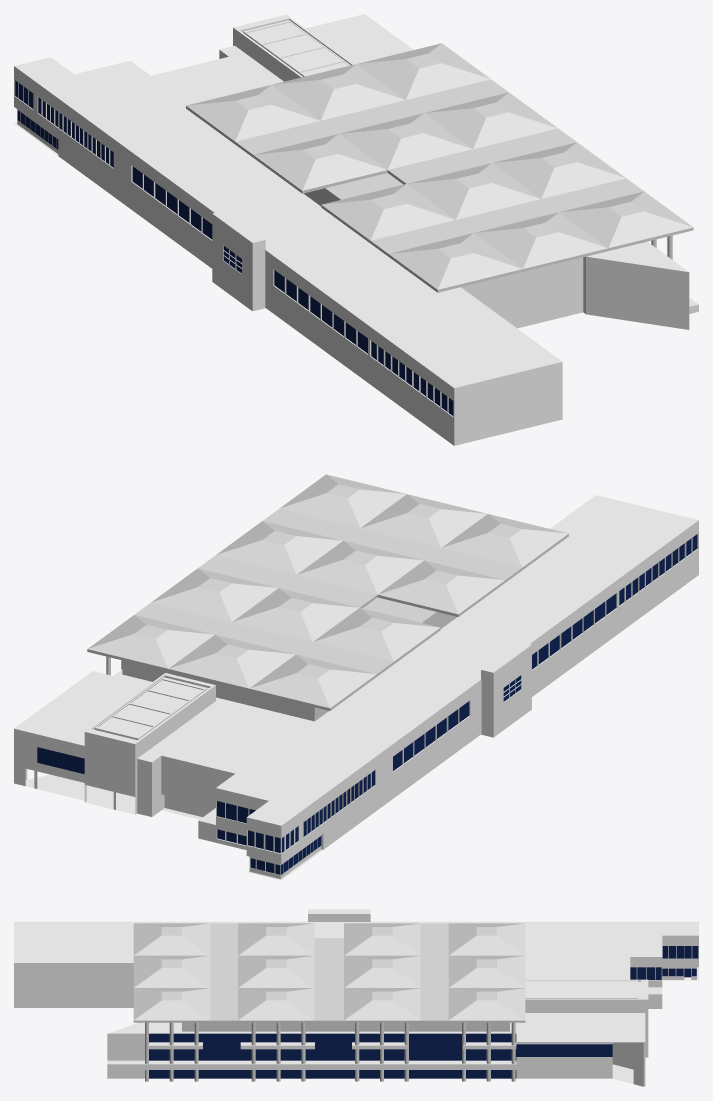
The model's file is Airport_01a.fbx.
3 renders of one model, top to bottom at view 1: azimuth 30°, elevation 25°; view 2: azimuth 150°, elevation 25°; view 3: azimuth 270°, elevation 25°, orthographic. The views are drawn at different scales.
Parts seen in each view (by area): view 1: Cube.001, Cube.004, Cube, Cube.003, Cube.002; view 2: Cube.004, Cube, Cube.001, Cube.003, Cube.002; view 3: Cube.004, Cube.001, Cube, Cube.002, Cylinder, Cube.003.
Boxes of the visible parts, <box> form: Cube.001: <box>131,131,698,445</box>; Cube.004: <box>186,43,693,292</box>; Cube: <box>14,14,413,209</box>; Cube.003: <box>212,210,265,311</box>; Cube.002: <box>303,173,402,206</box>; Cube.004: <box>87,474,568,710</box>; Cube: <box>14,671,392,880</box>; Cube.001: <box>113,495,698,798</box>; Cube.003: <box>481,642,531,737</box>; Cube.002: <box>122,597,456,721</box>; Cube.004: <box>133,923,525,1022</box>; Cube.001: <box>14,921,516,1078</box>; Cube: <box>516,921,698,1086</box>; Cube.002: <box>182,938,509,1031</box>; Cylinder: <box>145,1022,515,1081</box>; Cube.003: <box>308,909,370,921</box>.
Size of the model in its own units: 5014 by 1402 by 11616.
3 materials, 3 textured.
